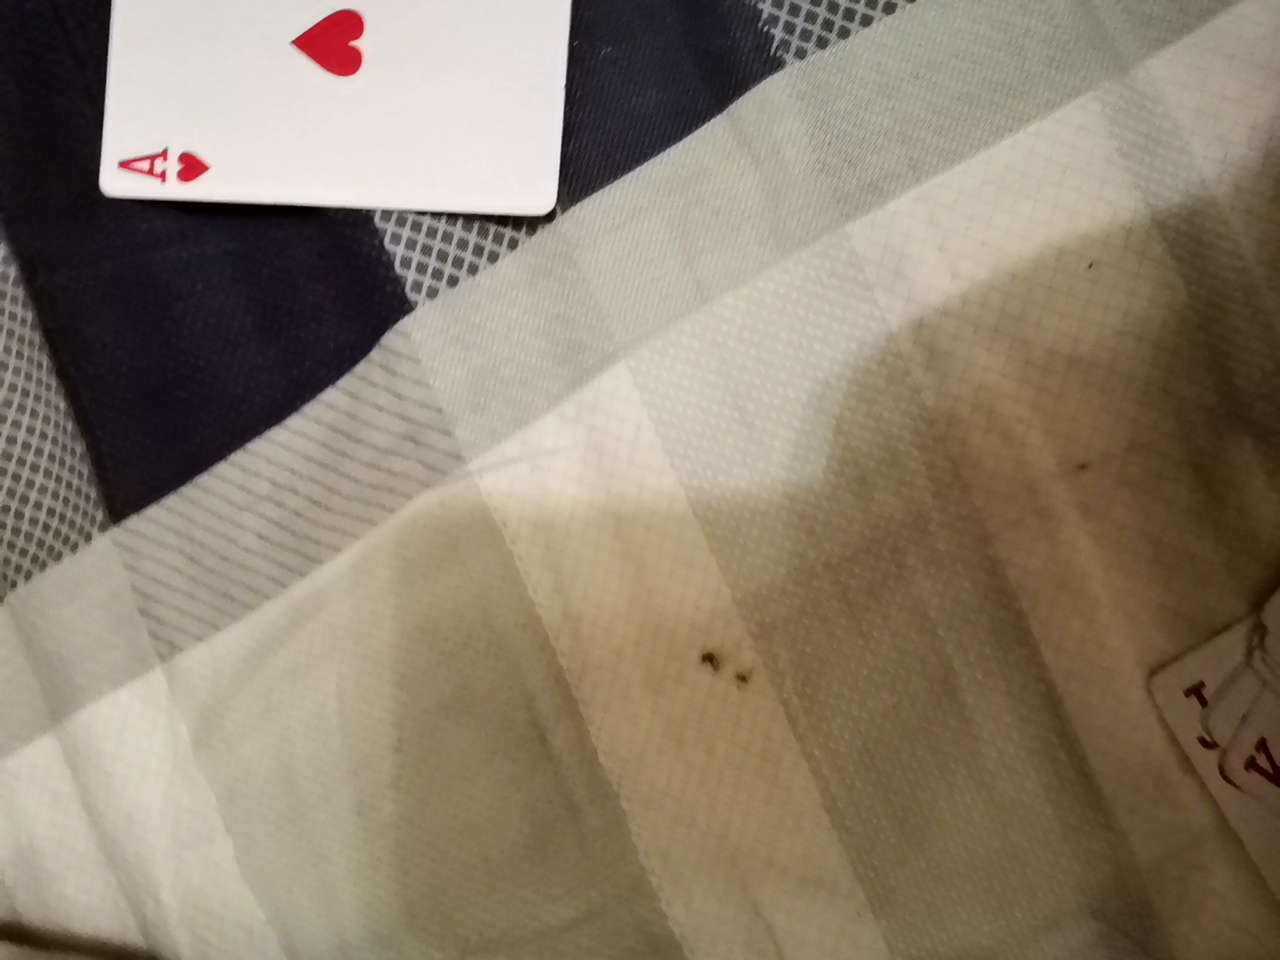hx a: (91, 0, 575, 227)
